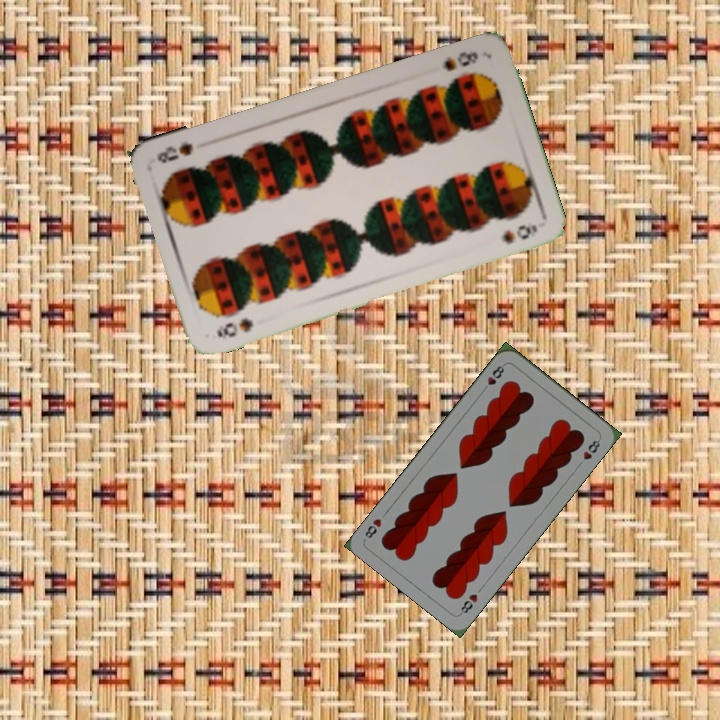H8: (478, 360, 508, 395), (456, 590, 480, 618)
S8: (212, 313, 256, 343), (439, 47, 481, 74)
